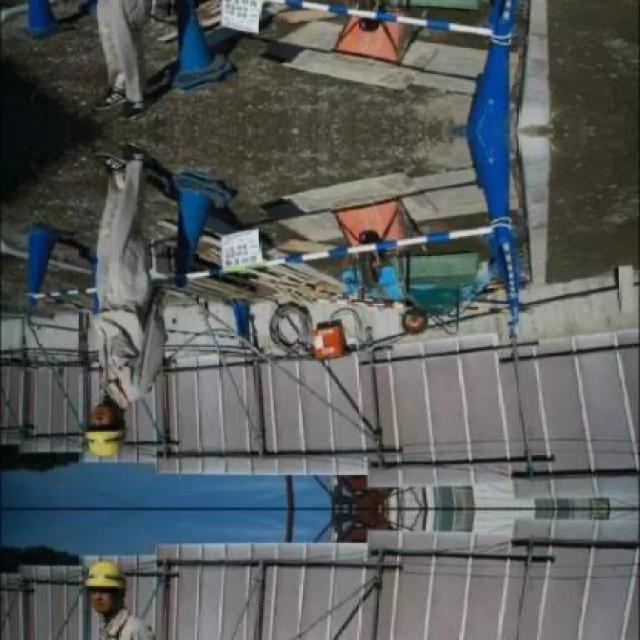con casco: (60, 420, 134, 464)
